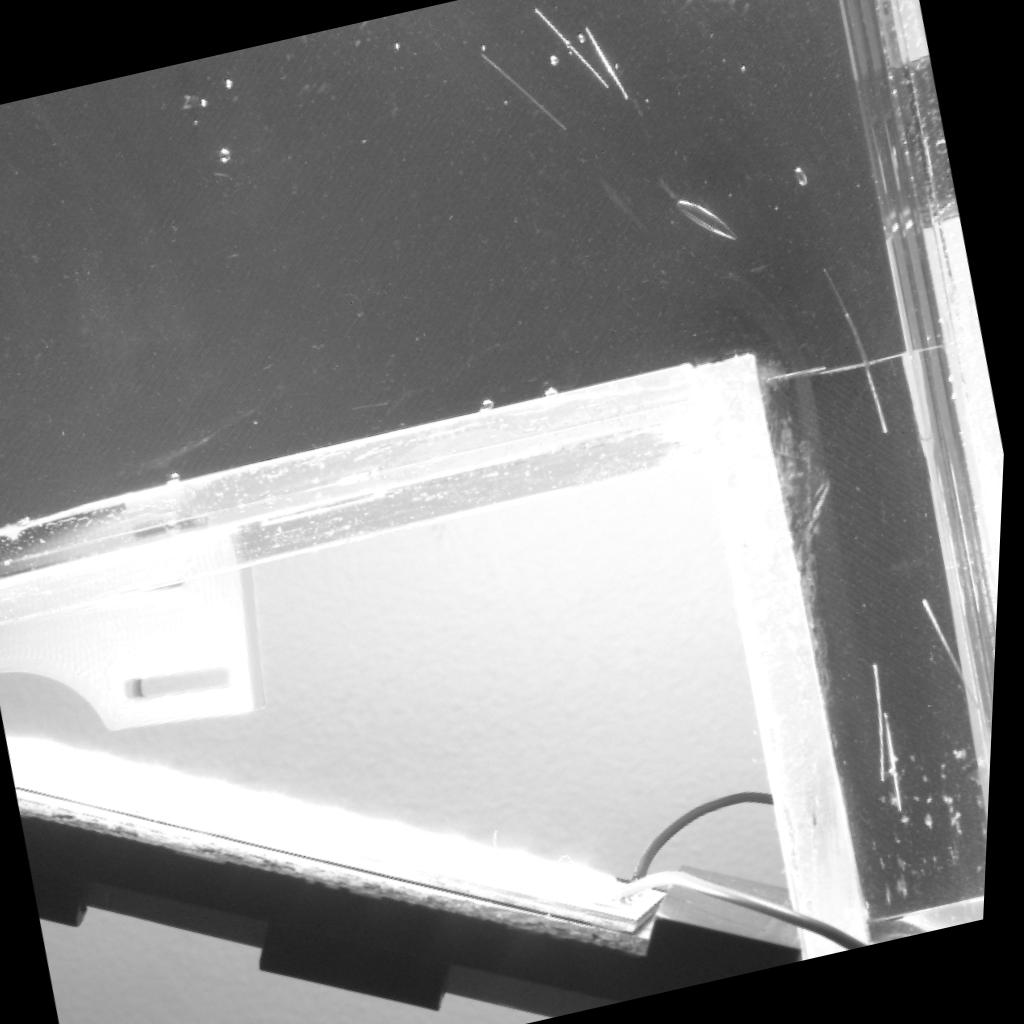Fiber: (923, 593, 991, 714), (479, 48, 574, 132), (531, 1, 613, 88), (819, 260, 879, 374), (852, 318, 898, 433), (582, 26, 635, 101), (885, 701, 914, 815), (871, 658, 896, 782)
